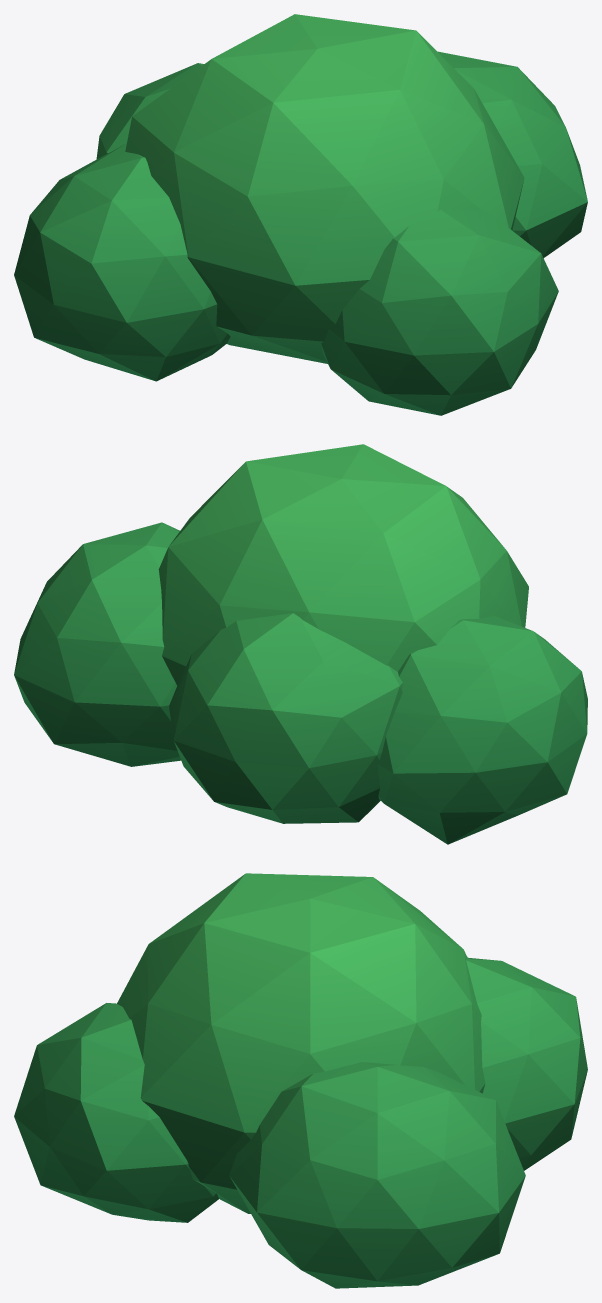
Rendered from arbusto_C.glb.
The picture shows the model from 3 angles, top to bottom: view 1: azimuth 30°, elevation 25°; view 2: azimuth 150°, elevation 25°; view 3: azimuth 270°, elevation 25°; orthographic projection. The views are drawn at different scales.
Visible parts, largest first — view 1: arbusto_C; view 2: arbusto_C; view 3: arbusto_C.
Boxes of the visible parts, x1,y1,x2,y2 form: arbusto_C: [14, 14, 587, 415]; arbusto_C: [14, 444, 587, 844]; arbusto_C: [14, 873, 587, 1288].
Size of the model in its own units: 1.85 by 1.01 by 1.7.
Materials: 1 (1 with a texture image).
